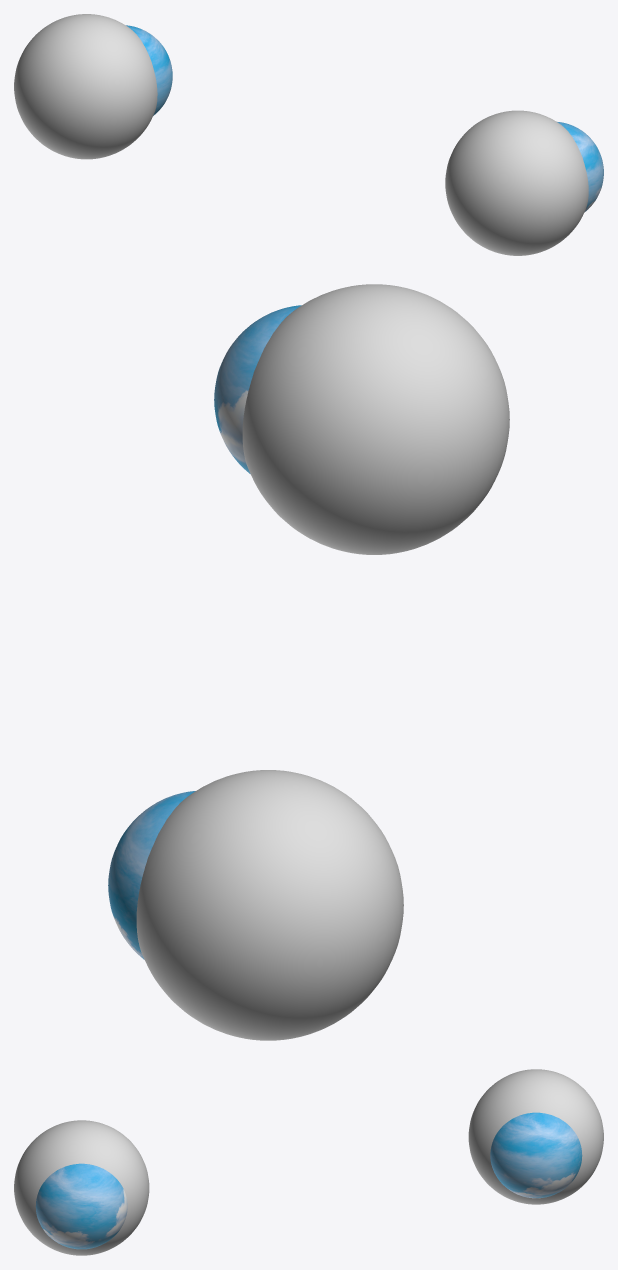
The model's file is CloudyEyes2.gltf.
3 renders of one model, top to bottom at view 1: azimuth 30°, elevation 25°; view 2: azimuth 150°, elevation 25°; view 3: azimuth 270°, elevation 25°, orthographic. The views are drawn at different scales.
Visible parts, largest first — view 1: Sphere 6, Sphere 3, Sphere 4, Sphere 5; view 2: Sphere 6, Sphere 3, Sphere 5, Sphere 4; view 3: Sphere 3, Sphere 6, Sphere 4, Sphere 5.
Boxes of the visible parts, x1,y1,x2,y2 form: Sphere 6: [445, 110, 588, 255]; Sphere 3: [14, 14, 157, 159]; Sphere 4: [126, 25, 172, 115]; Sphere 5: [557, 122, 603, 212]; Sphere 6: [242, 284, 509, 554]; Sphere 3: [136, 770, 403, 1040]; Sphere 5: [214, 305, 301, 473]; Sphere 4: [108, 791, 195, 959]; Sphere 3: [468, 1069, 603, 1204]; Sphere 6: [14, 1120, 149, 1255]; Sphere 4: [490, 1112, 582, 1198]; Sphere 5: [35, 1163, 127, 1249].
Bounding box in the file's own units: 0.9443 × 0.461 × 1.57.
3 materials, 2 textured.
